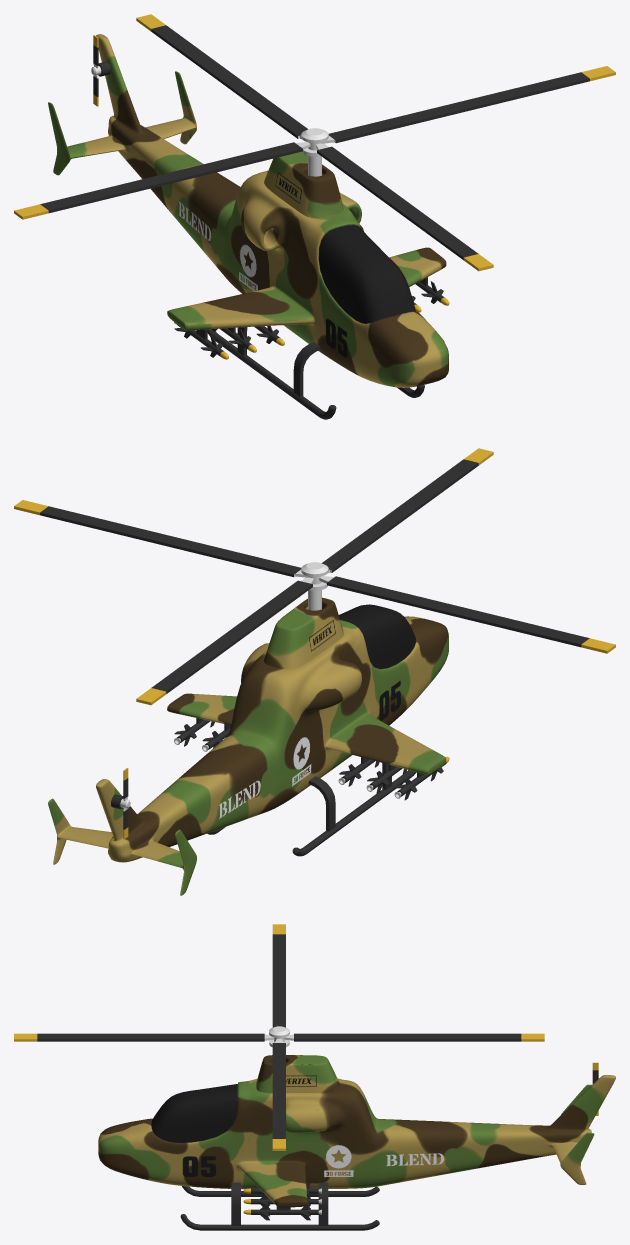
The model's file is Helicopter.glb.
3 views of the same model, one above another, from view 1: azimuth 30°, elevation 25°; view 2: azimuth 150°, elevation 25°; view 3: azimuth 270°, elevation 25° (orthographic). The views are drawn at different scales.
Visible parts, largest first — view 1: Helicopter Body, Main Rotor, Landing Skids, Missiles, Tail Rotor; view 2: Helicopter Body, Main Rotor, Missiles, Landing Skids; view 3: Helicopter Body, Main Rotor, Landing Skids, Missiles.
Part boxes in pixels (<box>): Helicopter Body: <box>48,34,448,387</box>; Main Rotor: <box>14,14,615,271</box>; Landing Skids: <box>207,327,424,419</box>; Missiles: <box>174,277,449,359</box>; Tail Rotor: <box>91,35,110,106</box>; Helicopter Body: <box>48,597,448,895</box>; Main Rotor: <box>14,448,615,705</box>; Missiles: <box>174,718,449,800</box>; Landing Skids: <box>207,763,416,856</box>; Helicopter Body: <box>98,1055,615,1207</box>; Main Rotor: <box>14,924,544,1150</box>; Landing Skids: <box>180,1182,379,1230</box>; Missiles: <box>243,1183,321,1220</box>.
Bounding box in the file's own units: 26.99 × 10.35 × 30.61.
Materials: 4 (1 with a texture image).
